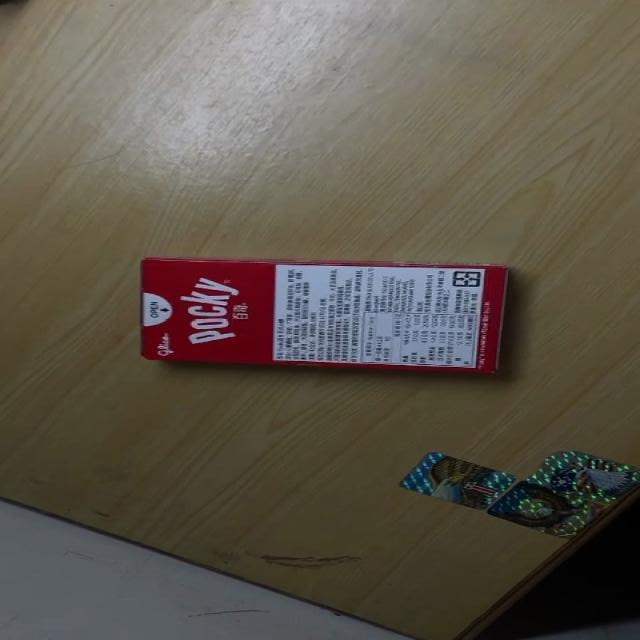Pocky: (131, 254, 515, 374)
